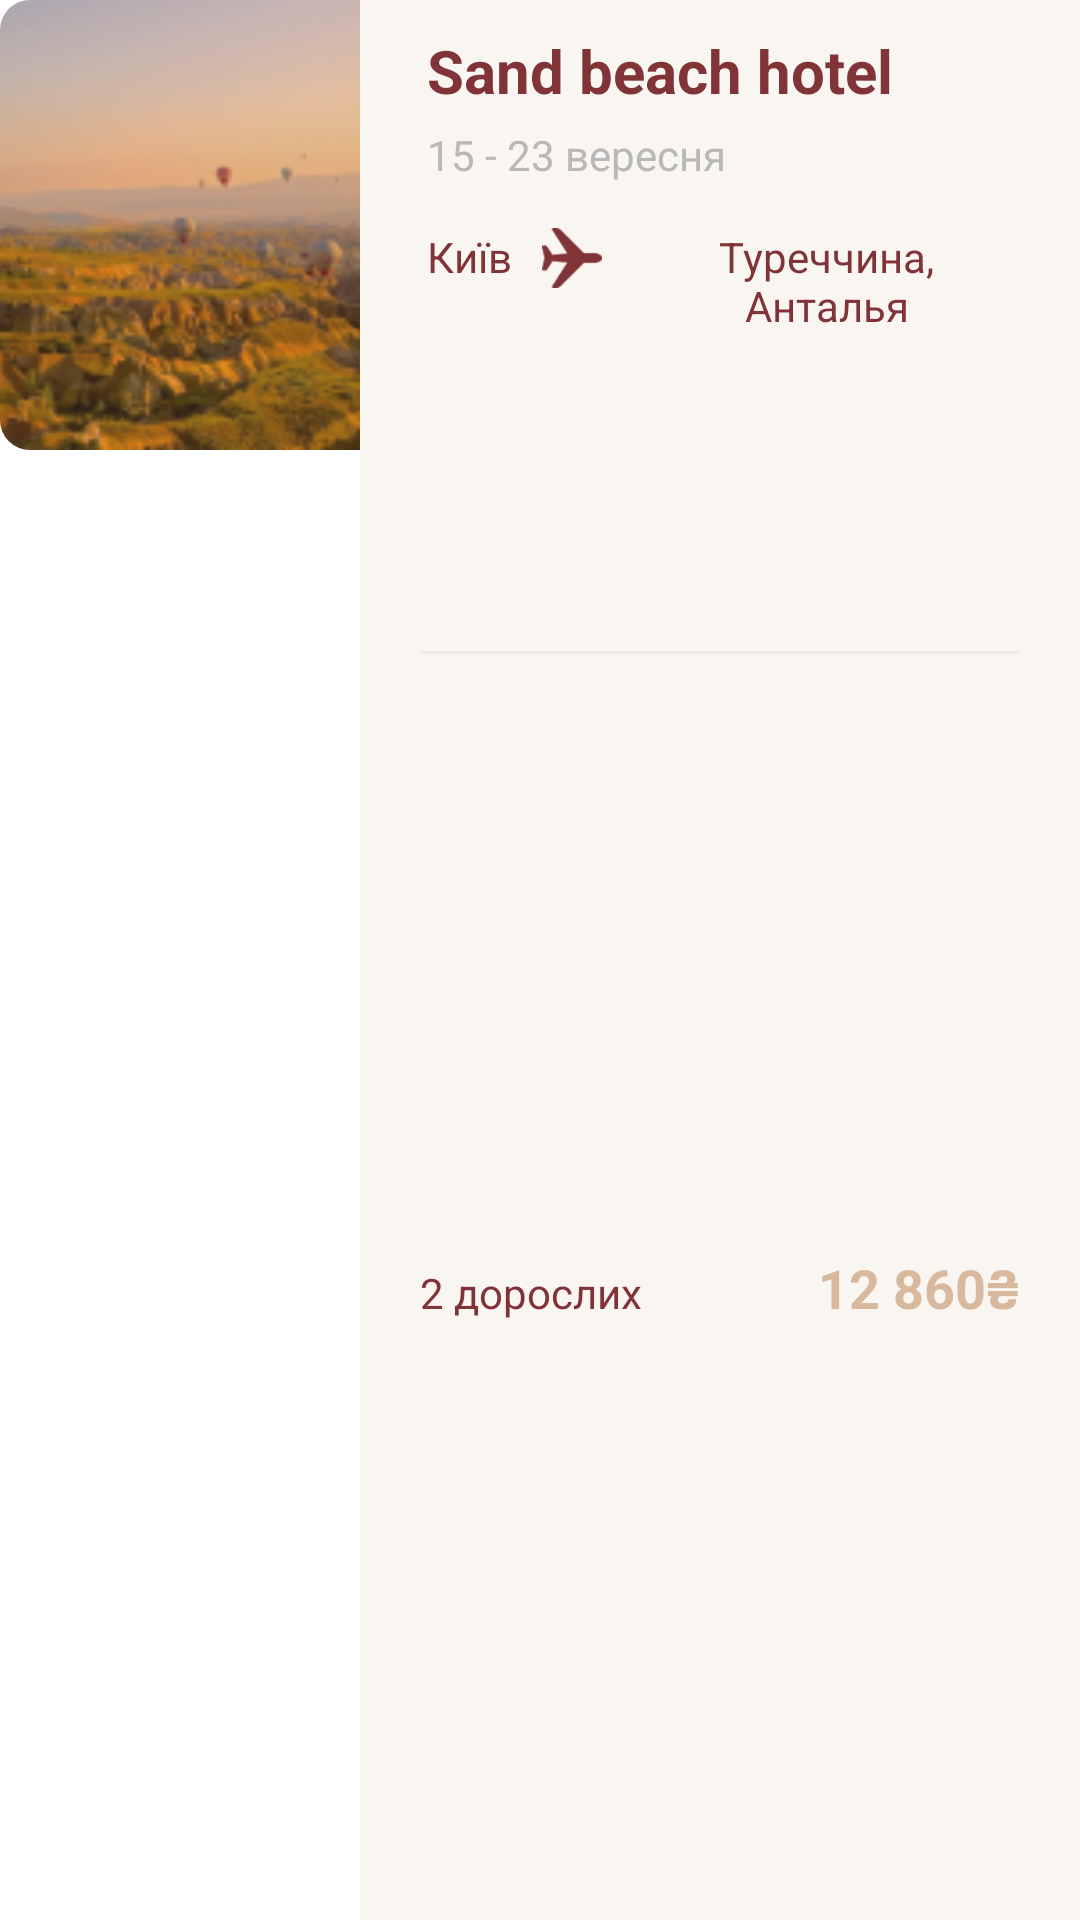

Icon bounding boxes for this 1080w x 1920h phone screenshot, format (x1, y1, x2, y2):
aeroplane: (542, 228, 602, 288)
